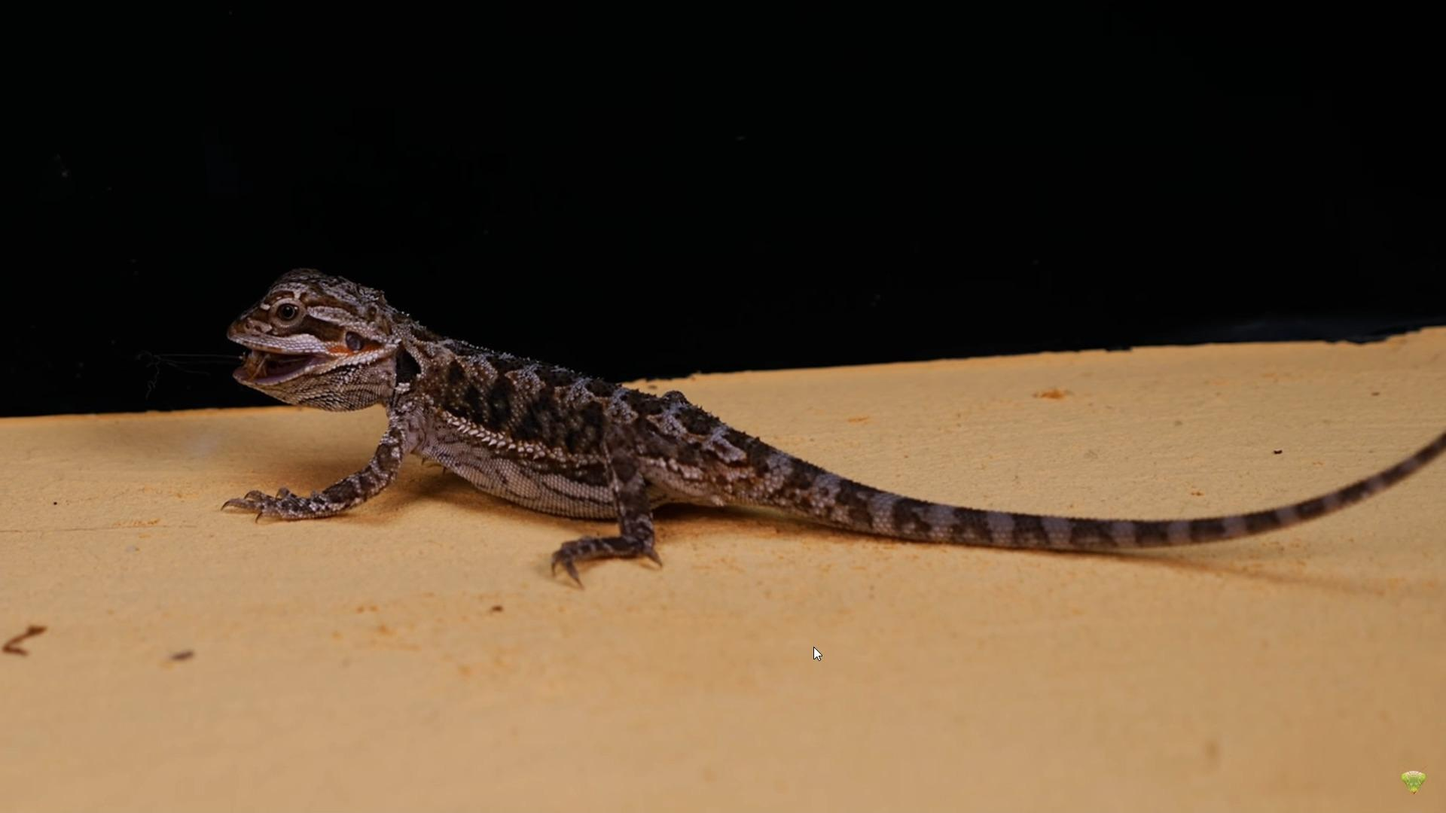lizard: (222, 249, 1286, 604)
